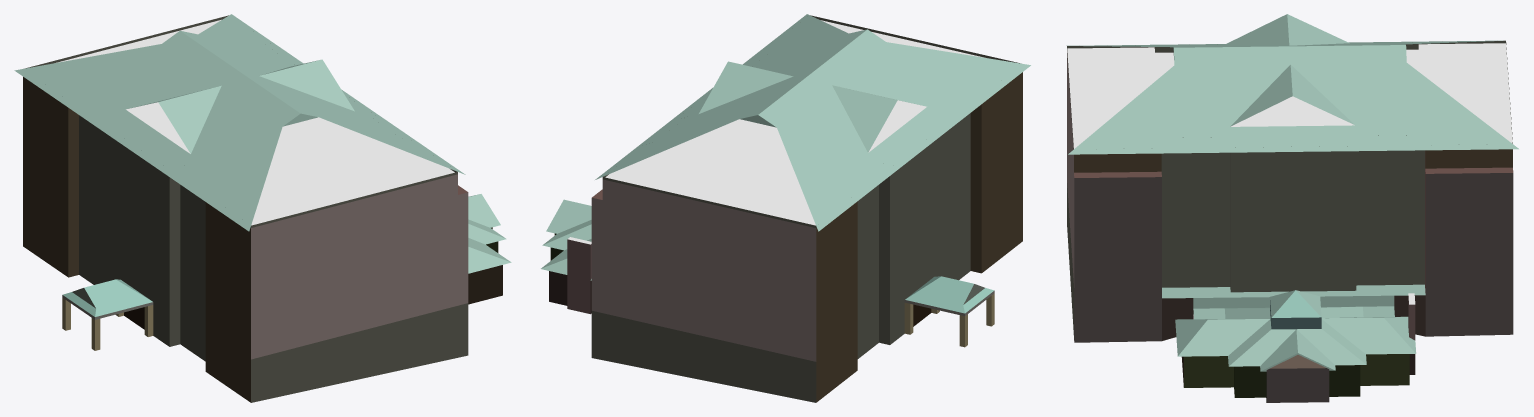
Rendered from hilton-garden-inn-chattanooga-tn.glb.
The picture shows the model from 3 angles, left to right: view 1: azimuth 30°, elevation 25°; view 2: azimuth 150°, elevation 25°; view 3: azimuth 270°, elevation 25°; orthographic projection.
Visible parts, largest first — view 1: LOD0; view 2: LOD0; view 3: LOD0.
Boxes of the visible parts, <box> form: LOD0: <box>14,14,511,402</box>; LOD0: <box>541,14,1030,402</box>; LOD0: <box>1066,14,1518,402</box>.
Size of what is drawn, in the model's own units: 46.5 by 25.52 by 44.58.
Materials: 2 (2 with a texture image).
